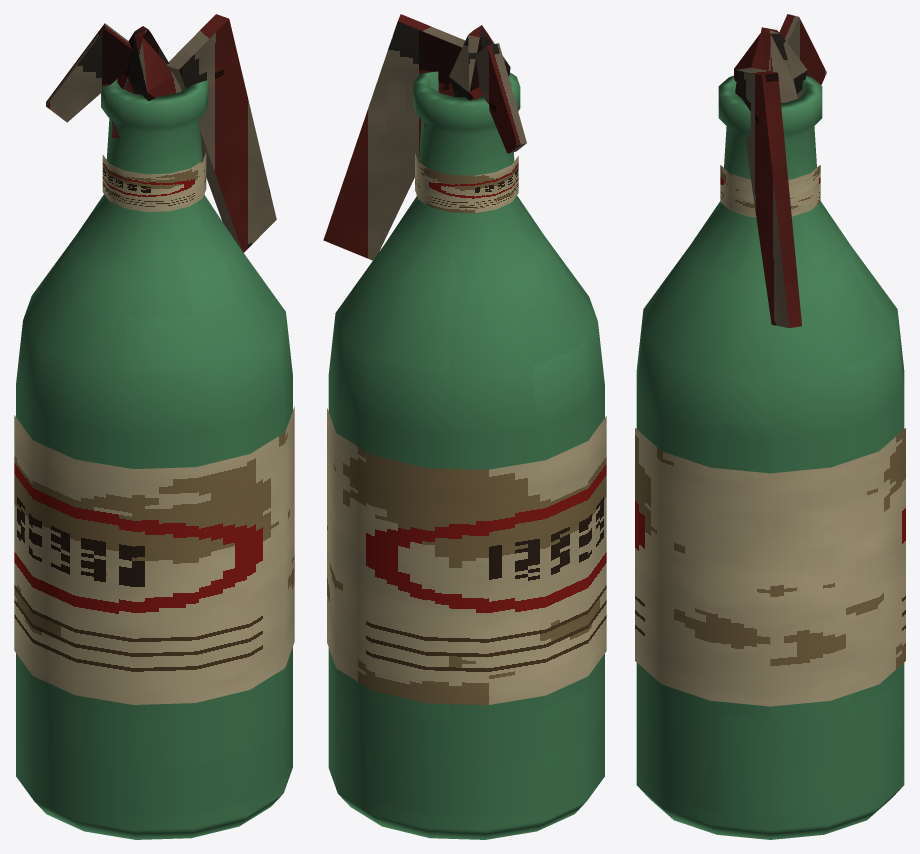
File: item_bottle.glb
3 renders of one model, left to right at view 1: azimuth 30°, elevation 25°; view 2: azimuth 150°, elevation 25°; view 3: azimuth 270°, elevation 25°, orthographic.
Parts seen in each view (by area): view 1: bottle; view 2: bottle; view 3: bottle.
Part boxes in pixels (<box>): bottle: <box>14,14,294,839</box>; bottle: <box>323,14,606,839</box>; bottle: <box>635,14,905,839</box>.
Bounding box in the file's own units: 0.0844 × 0.2429 × 0.079.
Materials: 3 (3 with a texture image).
